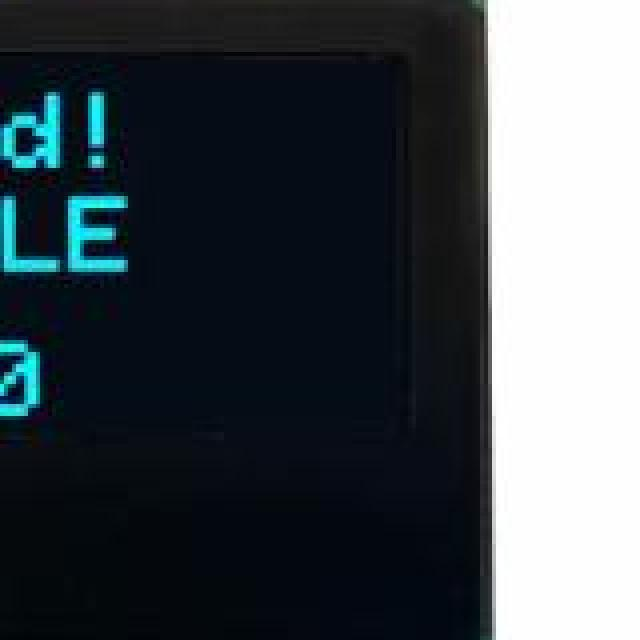display: (0, 0, 496, 640)
